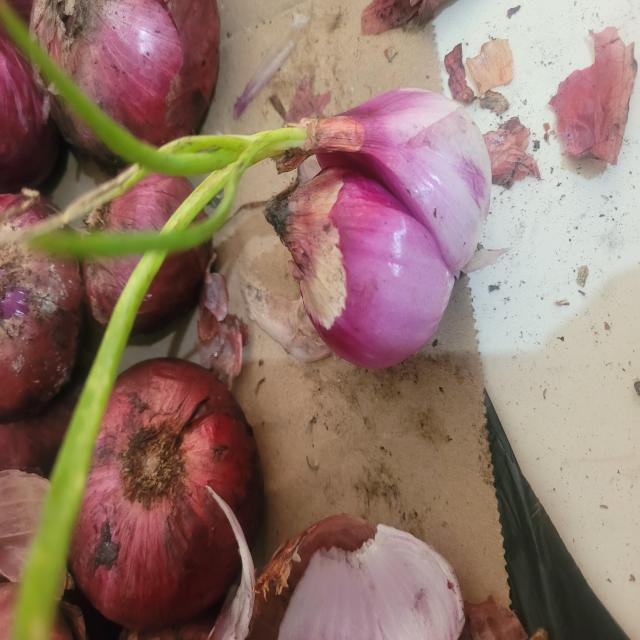rotten: (94, 442, 245, 570)
sprouting: (0, 0, 492, 382)
